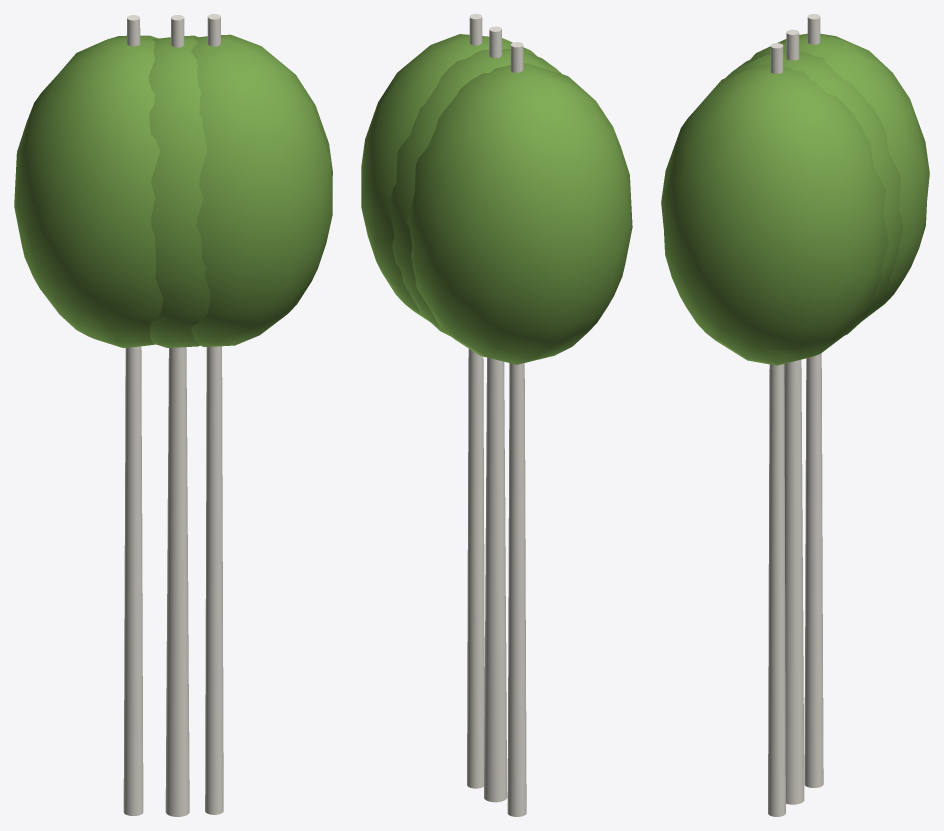
File: e06-white-birch.lod1.glb
3 views of the same model, side by side, from view 1: azimuth 30°, elevation 25°; view 2: azimuth 150°, elevation 25°; view 3: azimuth 270°, elevation 25° (orthographic). The views are drawn at different scales.
Visible parts, largest first — view 1: part3, part5, part1, part0, part2, part4; view 2: part3, part0, part5, part2, part4, part1; view 3: part5, part3, part0, part2, part4, part1.
Part boxes in pixels (x1,y1,x2,y2): part3: (14,35,163,348); part5: (191,34,332,347); part1: (148,35,210,347); part0: (165,15,189,816); part2: (123,15,143,815); part4: (205,14,223,814); part3: (406,63,632,364); part0: (484,26,507,802); part5: (361,34,536,321); part2: (507,42,526,816); part4: (467,14,484,788); part1: (389,49,561,336); part5: (661,64,888,365); part3: (750,33,929,320); part0: (784,29,804,804); part2: (804,14,823,787); part4: (768,43,785,816); part1: (726,50,903,335).
Bounding box in the file's own units: 5659 × 16000 × 5078.
